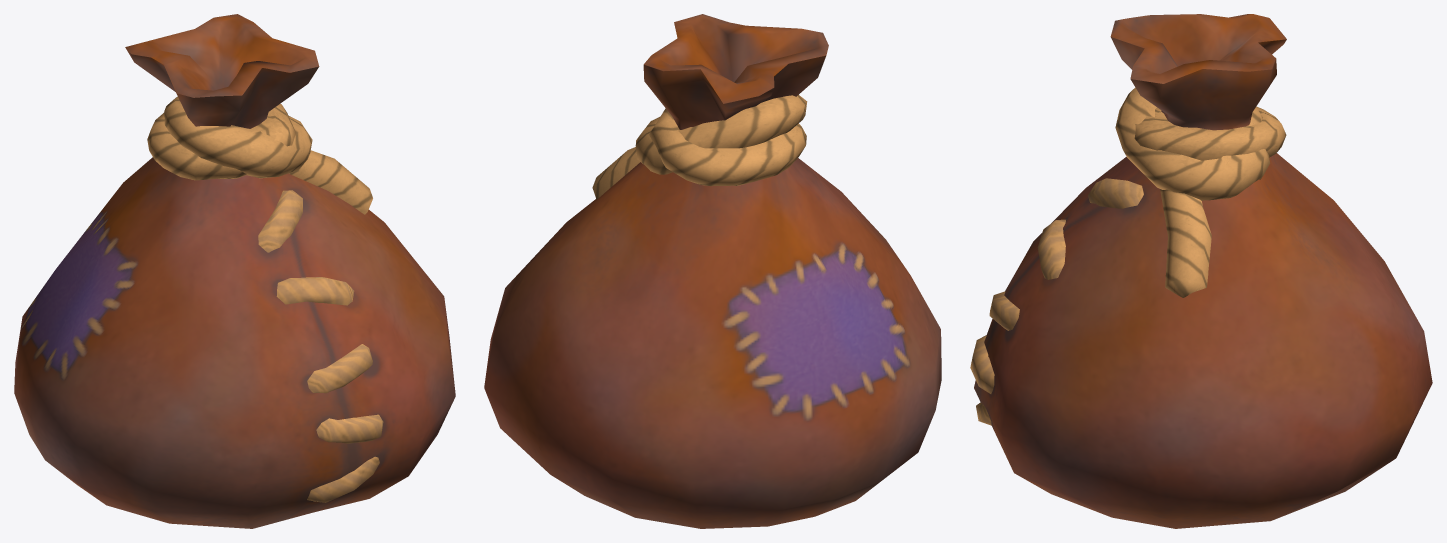
Rendered from SM_Potion_Props_Bag_01.fbx.
The picture shows the model from 3 angles, left to right: view 1: azimuth 30°, elevation 25°; view 2: azimuth 150°, elevation 25°; view 3: azimuth 270°, elevation 25°; orthographic projection.
Visible parts, largest first — view 1: SM_Potion_Props_Bag_01_LOD0; view 2: SM_Potion_Props_Bag_01_LOD0; view 3: SM_Potion_Props_Bag_01_LOD0.
Boxes of the visible parts, <box> form: SM_Potion_Props_Bag_01_LOD0: <box>14,14,455,528</box>; SM_Potion_Props_Bag_01_LOD0: <box>484,14,941,528</box>; SM_Potion_Props_Bag_01_LOD0: <box>970,14,1432,528</box>.
Size of what is drawn, in the model's own units: 22.4 by 22.99 by 23.05.
